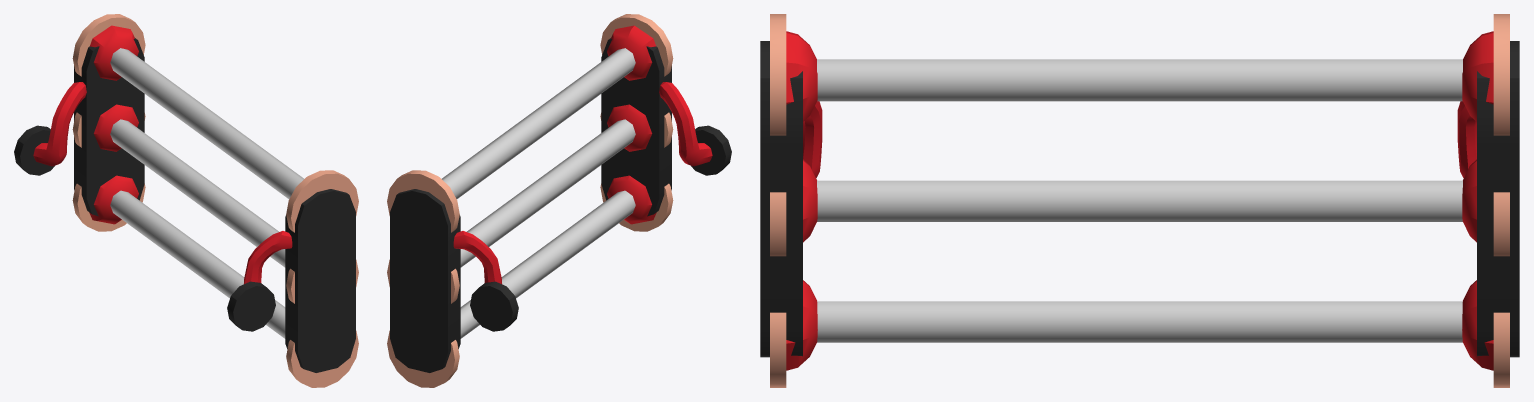
The model's file is laser_wall.fbx.
3 views of the same model, side by side, from view 1: azimuth 30°, elevation 25°; view 2: azimuth 150°, elevation 25°; view 3: azimuth 270°, elevation 25° (orthographic). The views are drawn at different scales.
Visible parts, largest first — view 1: laser_base2, laser_vfx_mesh, laser_base1; view 2: laser_base1, laser_vfx_mesh, laser_base2; view 3: laser_vfx_mesh, laser_base2, laser_base1.
Part boxes in pixels (<box>): laser_base2: <box>227,170,358,387</box>; laser_vfx_mesh: <box>110,48,303,338</box>; laser_base1: <box>14,14,145,231</box>; laser_base1: <box>387,170,518,387</box>; laser_vfx_mesh: <box>442,48,635,338</box>; laser_base2: <box>600,14,731,231</box>; laser_vfx_mesh: <box>817,59,1462,342</box>; laser_base2: <box>760,14,822,387</box>; laser_base1: <box>1457,14,1519,387</box>.
Bounding box in the file's own units: 0.978 × 1.58 × 3.
